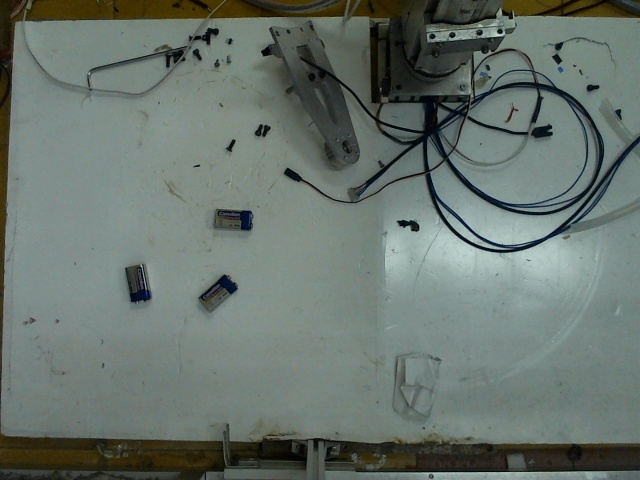battery: (207, 201, 254, 235), (120, 258, 154, 301), (197, 275, 237, 310)
